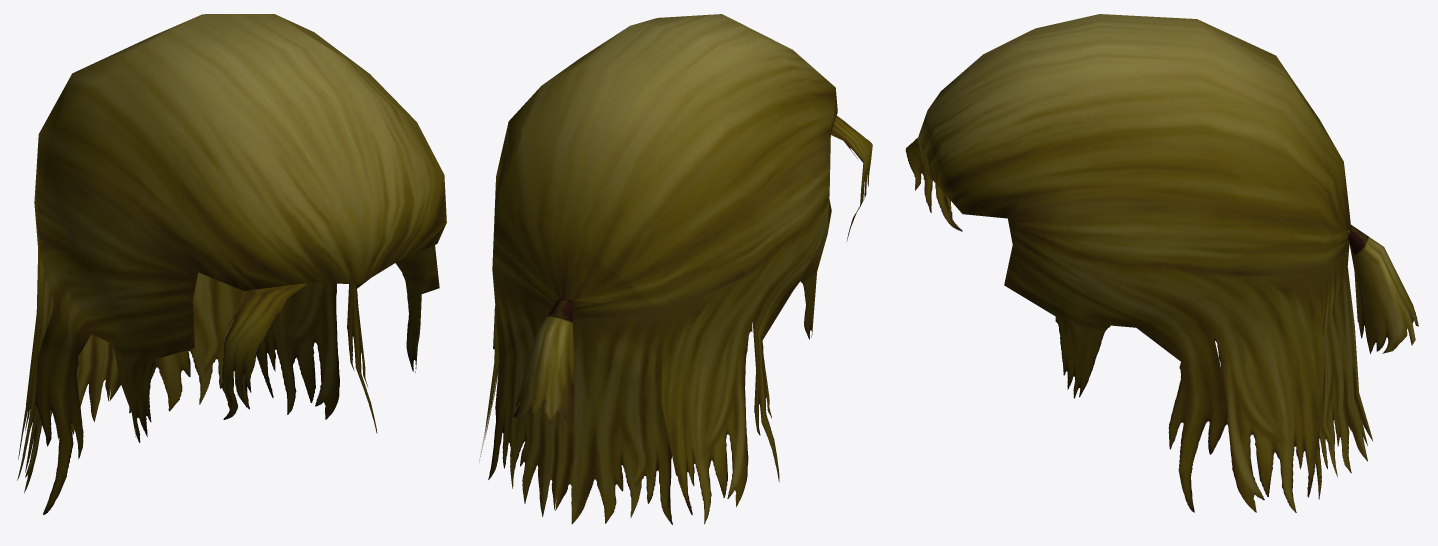
The model's file is M_jichufaxing.FBX.
3 views of the same model, side by side, from view 1: azimuth 30°, elevation 25°; view 2: azimuth 150°, elevation 25°; view 3: azimuth 270°, elevation 25° (orthographic). The views are drawn at different scales.
Visible parts, largest first — view 1: M_jichufaxing01; view 2: M_jichufaxing01; view 3: M_jichufaxing01.
Part boxes in pixels (x1,y1,x2,y2): M_jichufaxing01: (17,14,446,514); M_jichufaxing01: (479,14,872,524); M_jichufaxing01: (905,14,1418,512).
Bounding box in the file's own units: 17.95 × 23.85 × 26.47.
1 material, 1 textured.
